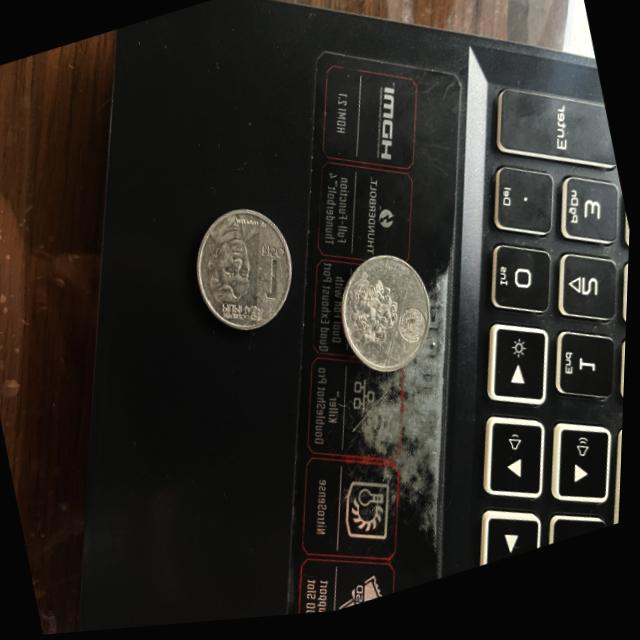1_New_Back: (337, 264, 416, 382)
1_New_Front: (248, 230, 301, 317)
